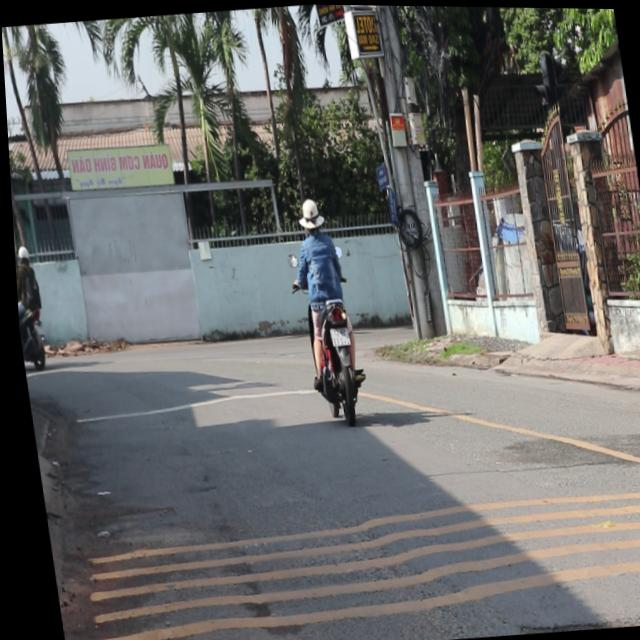licenseplate: (281, 191, 368, 422)
motorcyclist: (292, 195, 324, 238)
nohelmet: (326, 325, 346, 344)
